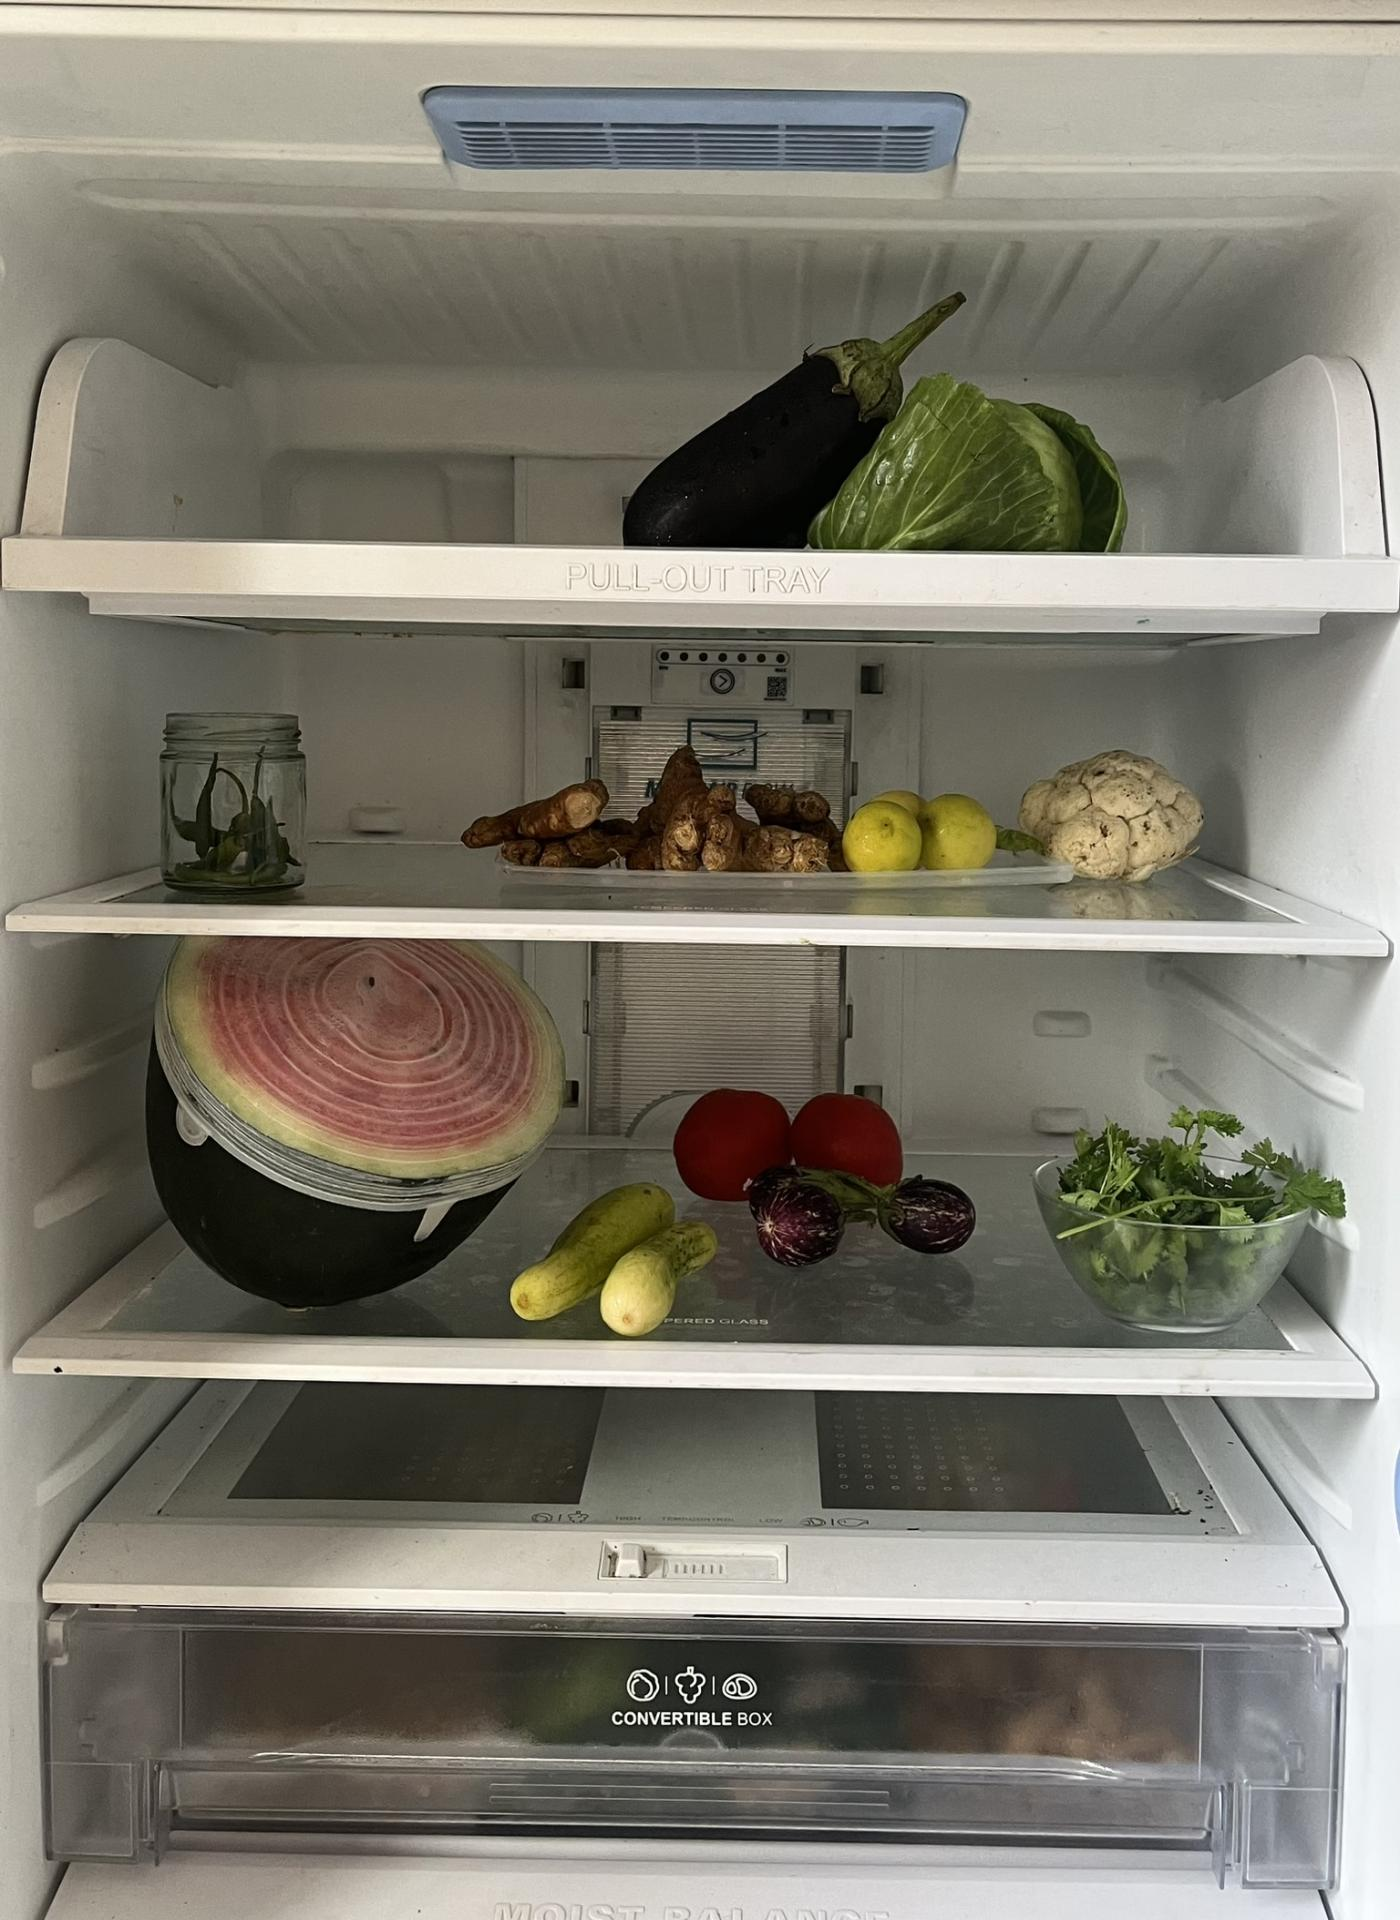brinjal: (626, 310, 968, 555), (757, 1173, 980, 1269)
cabbage: (787, 377, 1123, 543)
cauliflower: (1027, 745, 1214, 881)
chillies: (161, 747, 295, 893)
coriander: (1048, 1127, 1328, 1325)
cucumber: (513, 1169, 726, 1334)
ginger: (485, 766, 851, 881)
tomato: (684, 1094, 906, 1203)
watermelon: (157, 924, 565, 1321)
